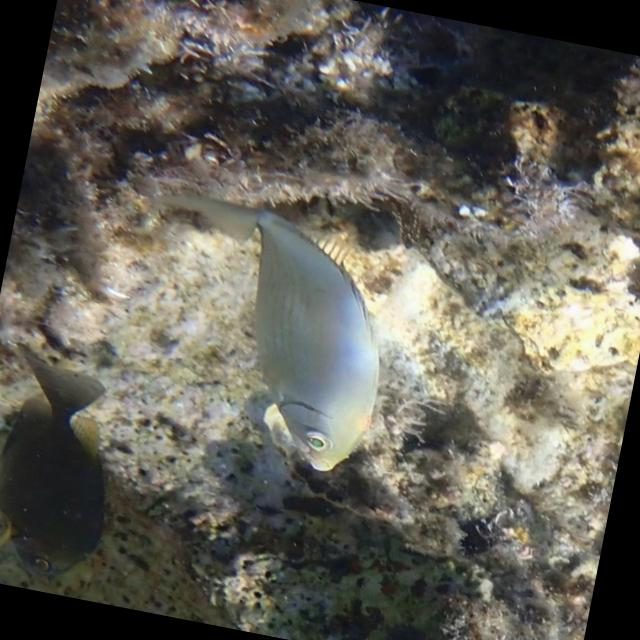Sokar Baligi: (97, 177, 427, 492)
